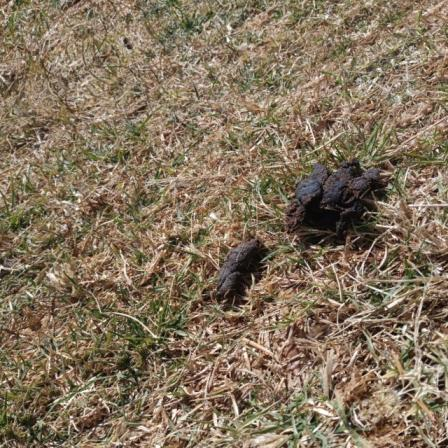dog-poop: (288, 159, 375, 238), (210, 236, 260, 296)
